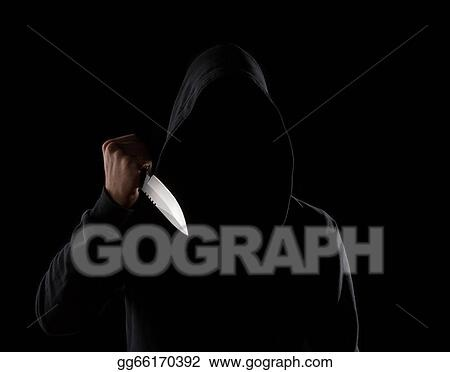knife: (102, 132, 188, 236)
